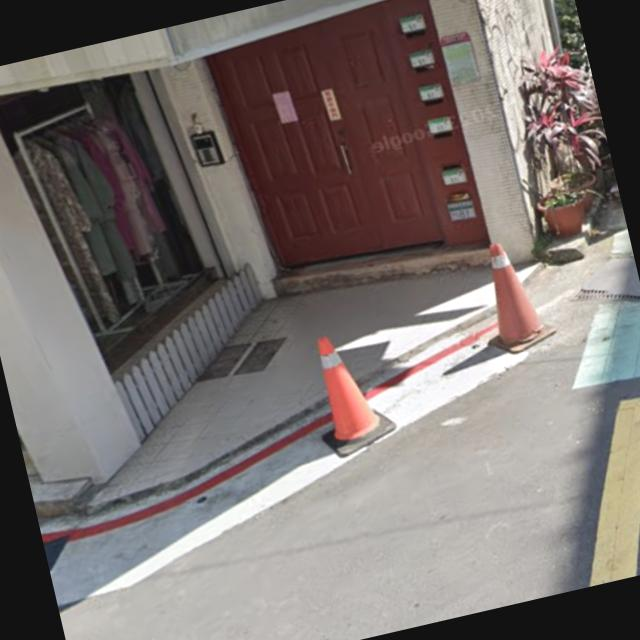cone: (466, 224, 562, 356), (304, 320, 388, 464)
plant: (511, 56, 612, 240)
